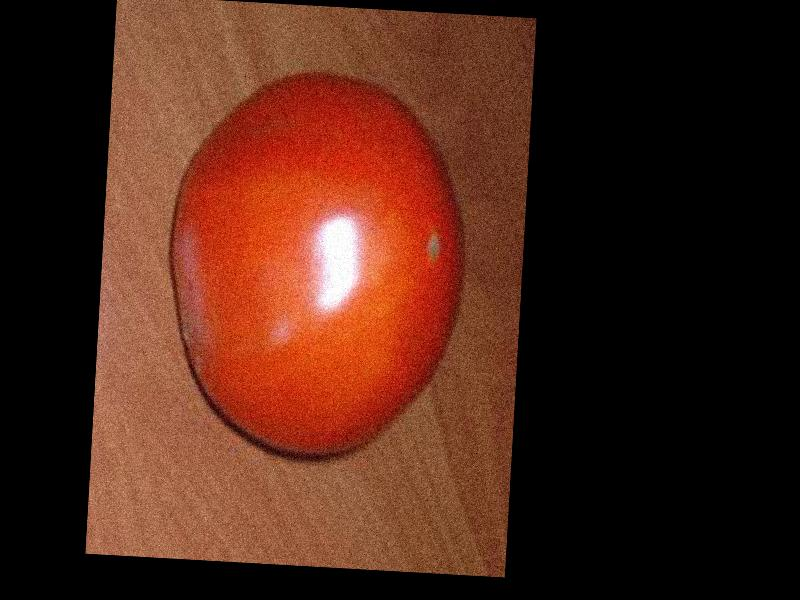Tomato: (161, 60, 476, 469)
